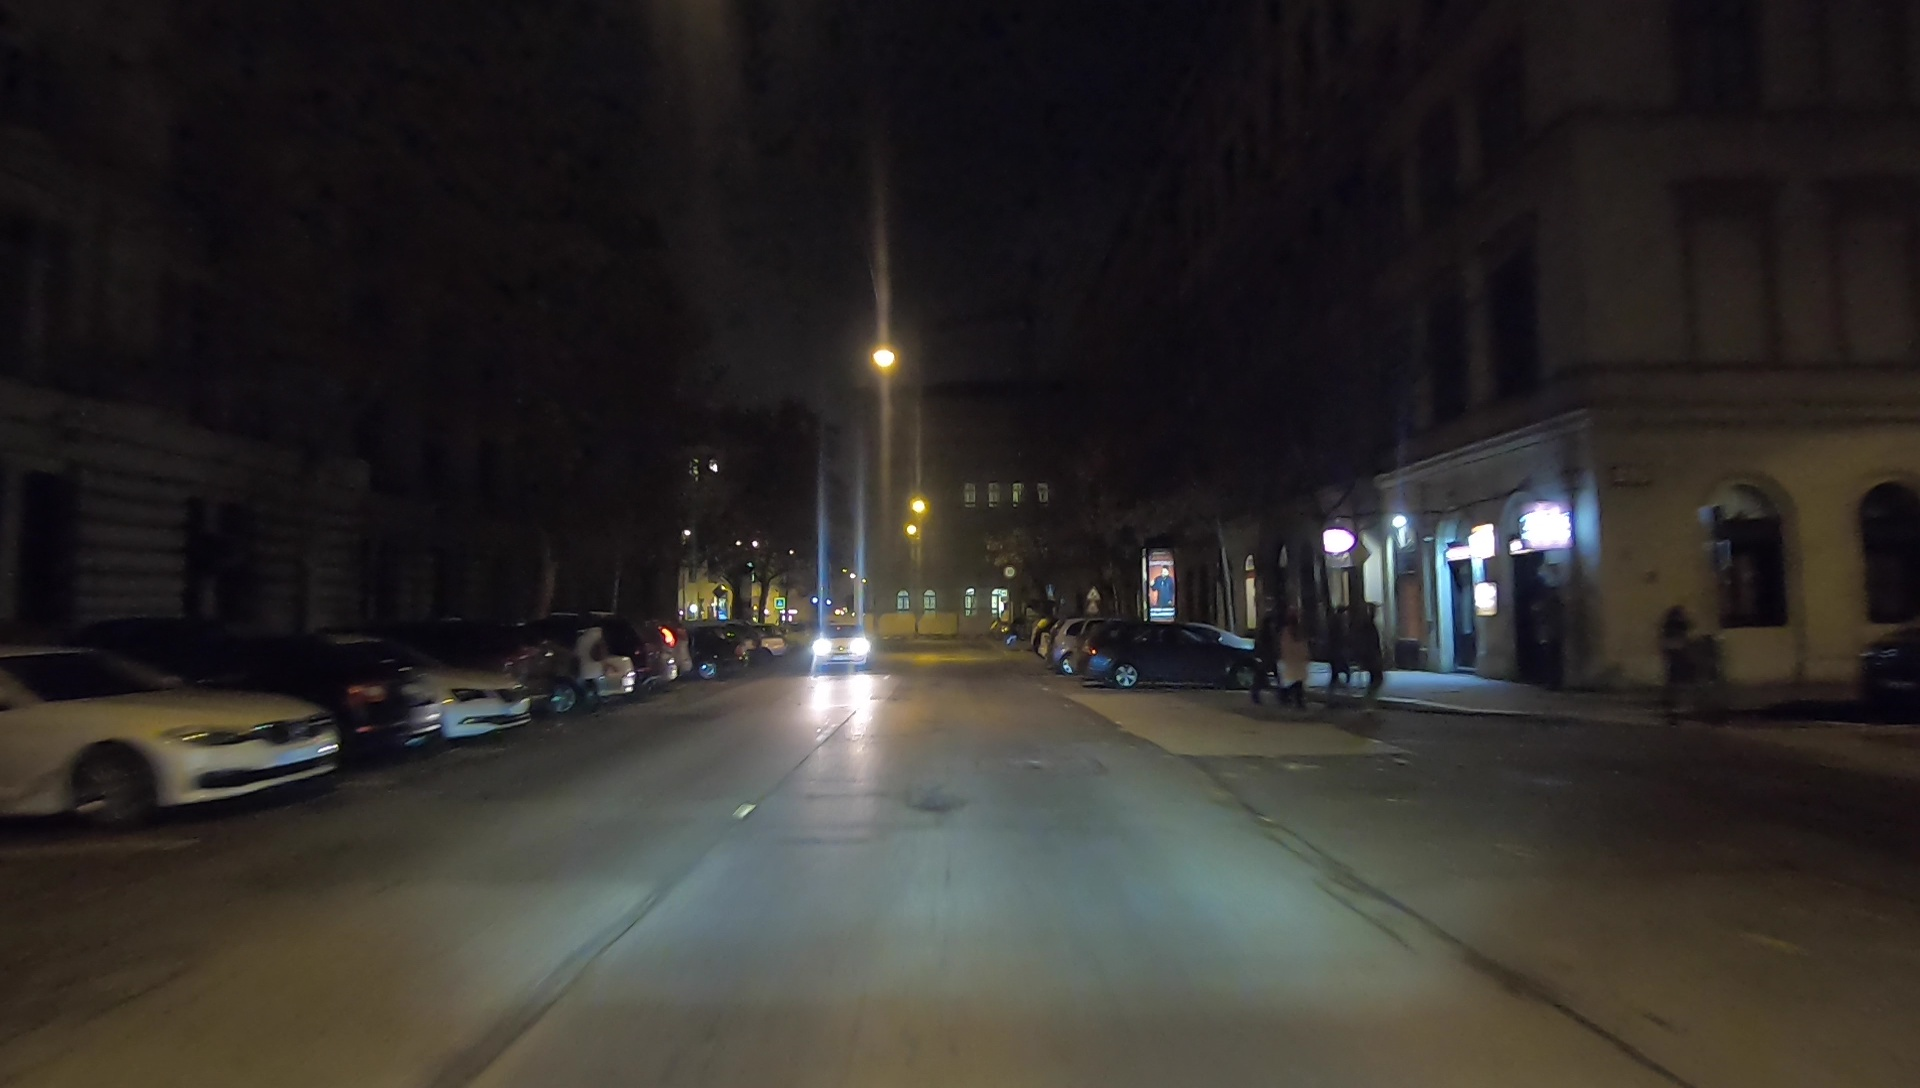person: (1280, 604, 1308, 715), (1326, 604, 1356, 706), (1362, 599, 1384, 704), (1256, 613, 1278, 702)
